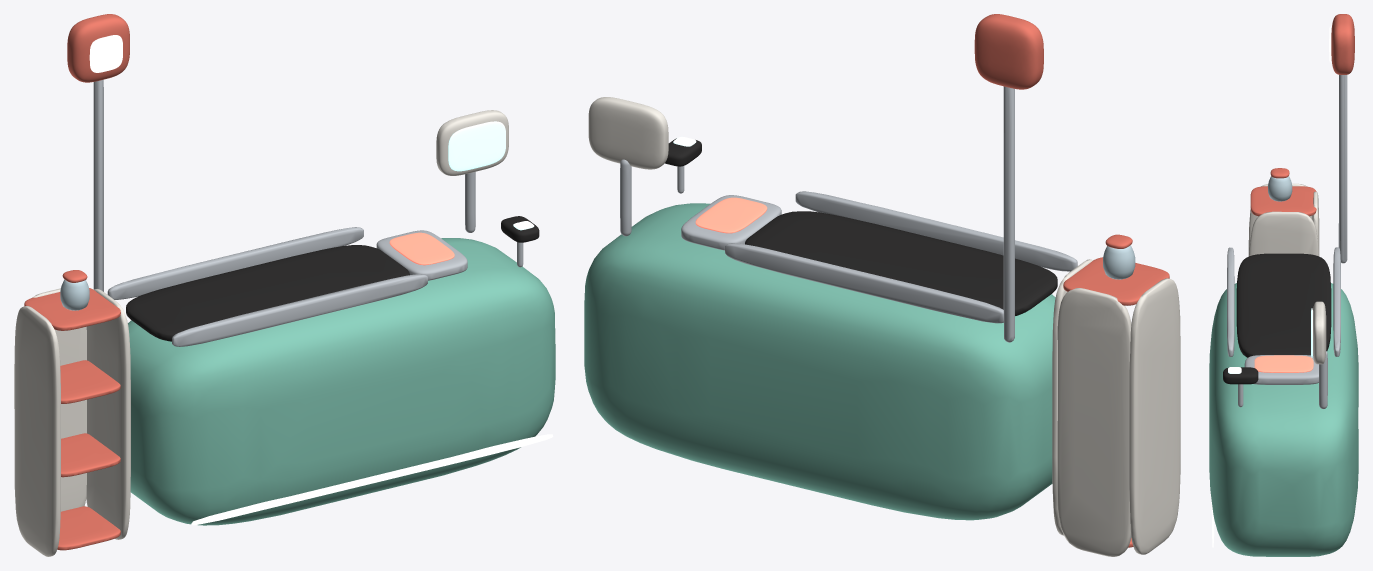
Rendered from vitrina_caja_3.glb.
3 renders of one model, left to right at view 1: azimuth 30°, elevation 25°; view 2: azimuth 150°, elevation 25°; view 3: azimuth 270°, elevation 25°, orthographic. The views are drawn at different scales.
Visible parts, largest first — view 1: mostrador.001, banda, lateral exhibidor, lateral exhibidor.001, baranda, baranda.001, zocalo luz, fondo exhibidor, número, pantalla, poste número, repisa exhibidor.003 (+10 smaller); view 2: mostrador.001, fondo exhibidor, banda, lateral exhibidor, baranda.001, baranda, monitor, número, poste número, repisa exhibidor.003, escaner, luz escaner (+3 smaller); view 3: mostrador.001, banda, lateral exhibidor.001, poste número, repisa exhibidor.003, número, escaner, luz escaner, baranda, baranda.001, monitor, frasco dulces (+4 smaller).
Part boxes in pixels (x1,y1,x2,y2): mostrador.001: (128, 238, 555, 525); banda: (126, 245, 409, 341); lateral exhibidor: (14, 306, 60, 556); lateral exhibidor.001: (86, 289, 130, 539); baranda: (172, 274, 427, 346); baranda.001: (107, 227, 363, 299); zocalo luz: (191, 434, 553, 525); fondo exhibidor: (32, 288, 86, 511); número: (67, 14, 129, 82); pantalla: (448, 121, 505, 171); poste número: (93, 79, 103, 291); repisa exhibidor.003: (24, 288, 120, 330); mostrador.001: (584, 203, 1055, 520); fondo exhibidor: (1057, 288, 1131, 556); banda: (745, 211, 1057, 315); lateral exhibidor: (1129, 278, 1180, 554); baranda.001: (724, 243, 1003, 323); baranda: (795, 191, 1077, 271); monitor: (588, 97, 668, 169); número: (974, 14, 1043, 89); poste número: (1003, 86, 1014, 342); repisa exhibidor.003: (1063, 257, 1169, 305); escaner: (681, 195, 781, 250); luz escaner: (695, 197, 767, 233); mostrador.001: (1209, 283, 1358, 556); banda: (1236, 253, 1331, 357); lateral exhibidor.001: (1249, 211, 1318, 256); poste número: (1338, 75, 1347, 263); repisa exhibidor.003: (1250, 186, 1316, 216); número: (1331, 14, 1354, 74); escaner: (1244, 355, 1318, 384); luz escaner: (1254, 355, 1313, 372); baranda: (1227, 247, 1234, 356); baranda.001: (1333, 247, 1340, 356); monitor: (1313, 301, 1326, 364); frasco dulces: (1268, 176, 1292, 201).
Size of the model in its own units: 2.44 by 2.24 by 0.7579.
